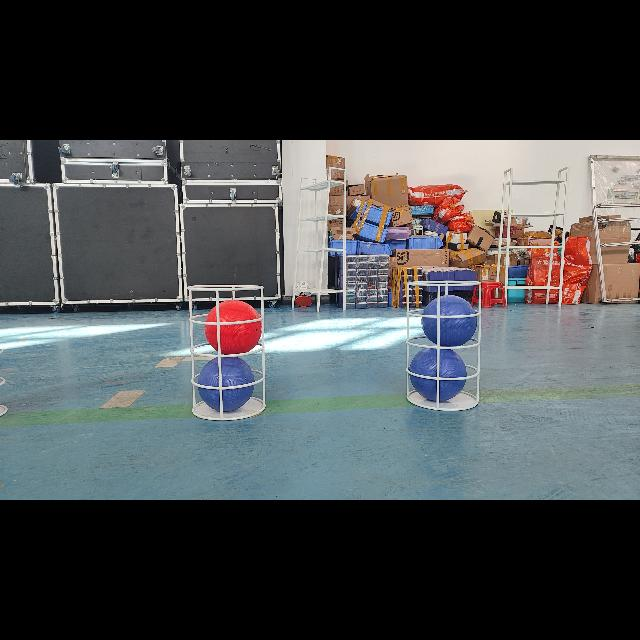B: (200, 353, 254, 412), (409, 348, 466, 400), (422, 295, 478, 347)
R: (206, 301, 262, 354)
S: (188, 282, 276, 426), (401, 274, 487, 416)
